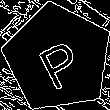P_NW: (30, 27, 86, 89)
